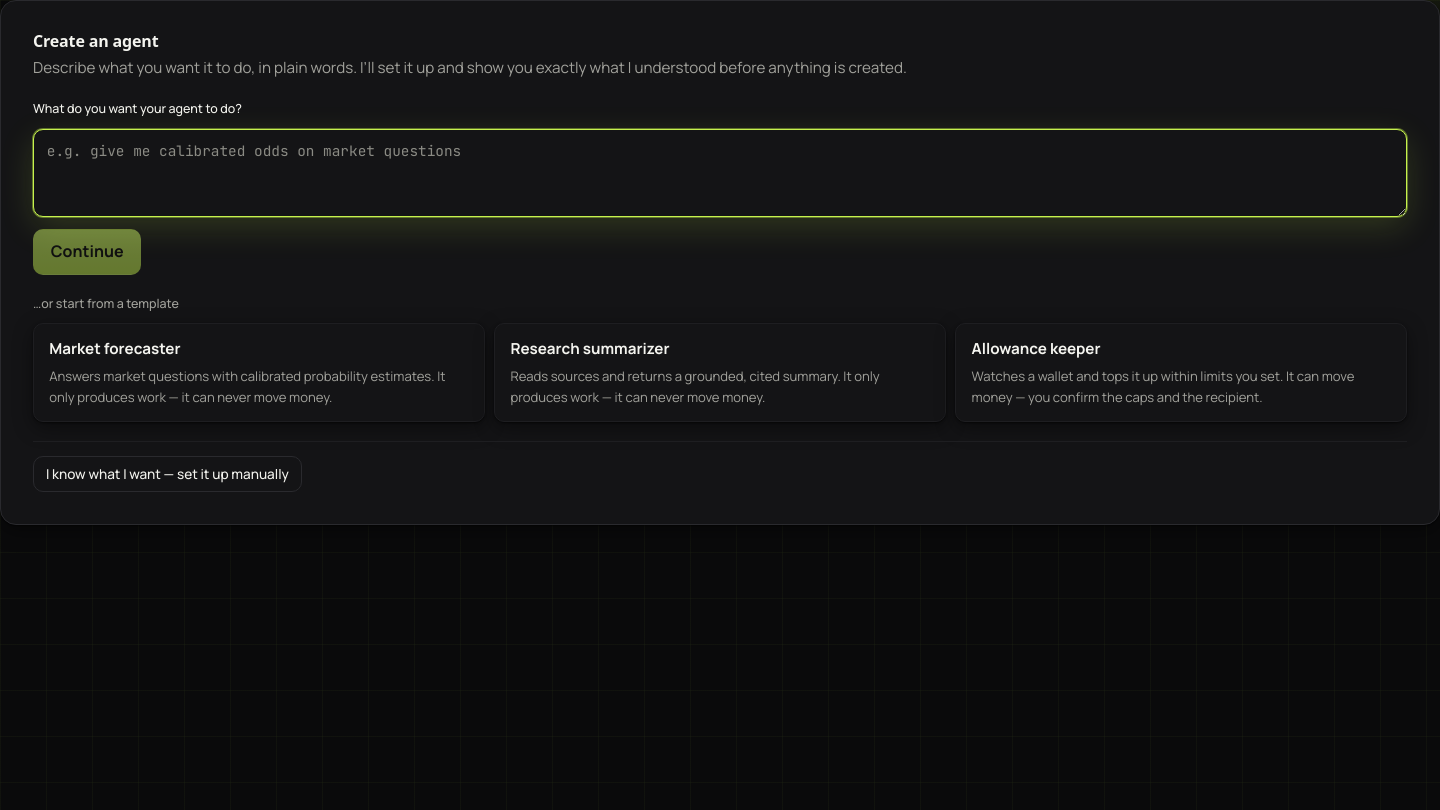
Test: FunnelEntry › an elevation failure shows a legible retry, not a blank screen
In the text box with test id "funnel-intent": point(720, 173) x1=33 y1=129 x2=1407 y2=217, type "odds please"
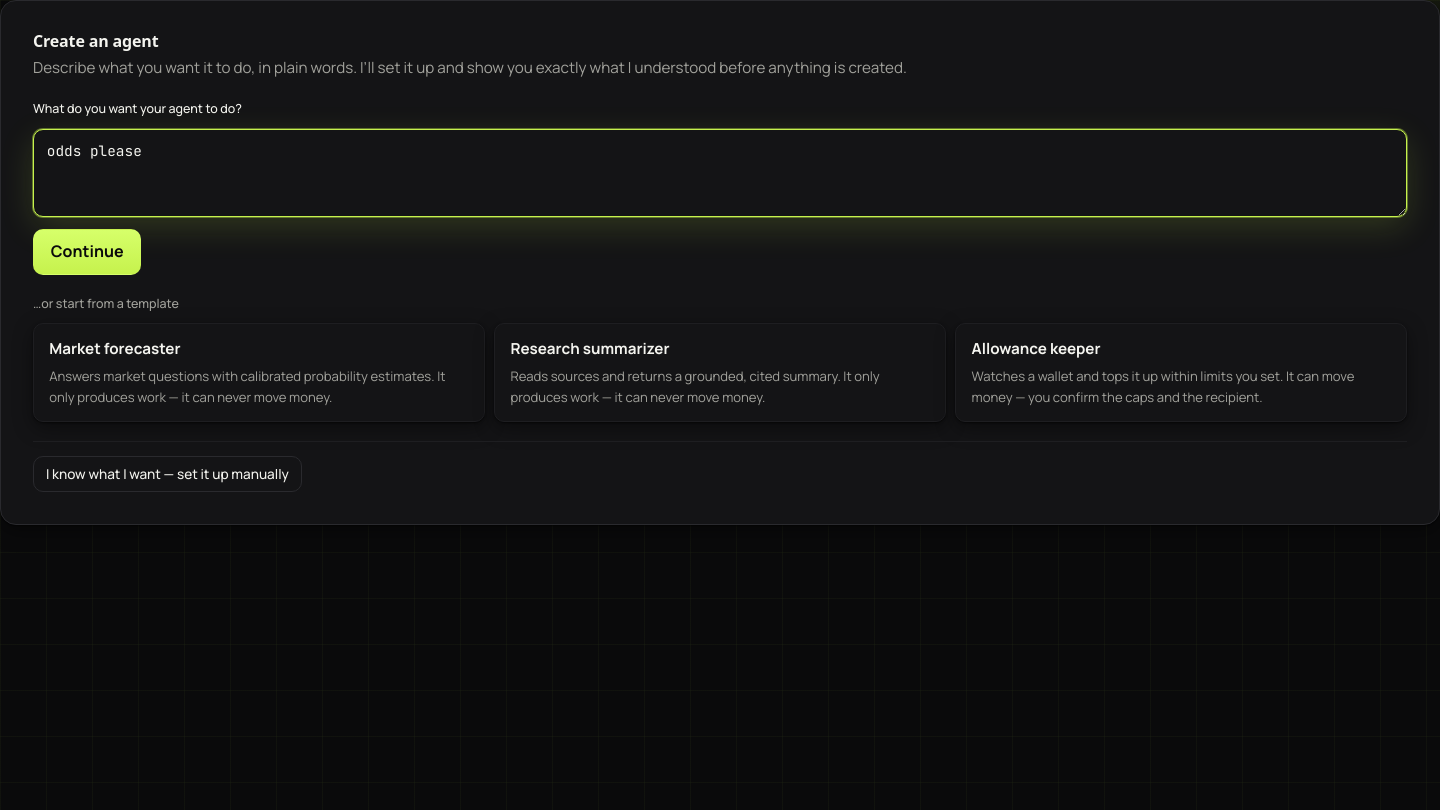
Click the button with test id "funnel-elevate": point(87, 252) x1=33 y1=229 x2=141 y2=275
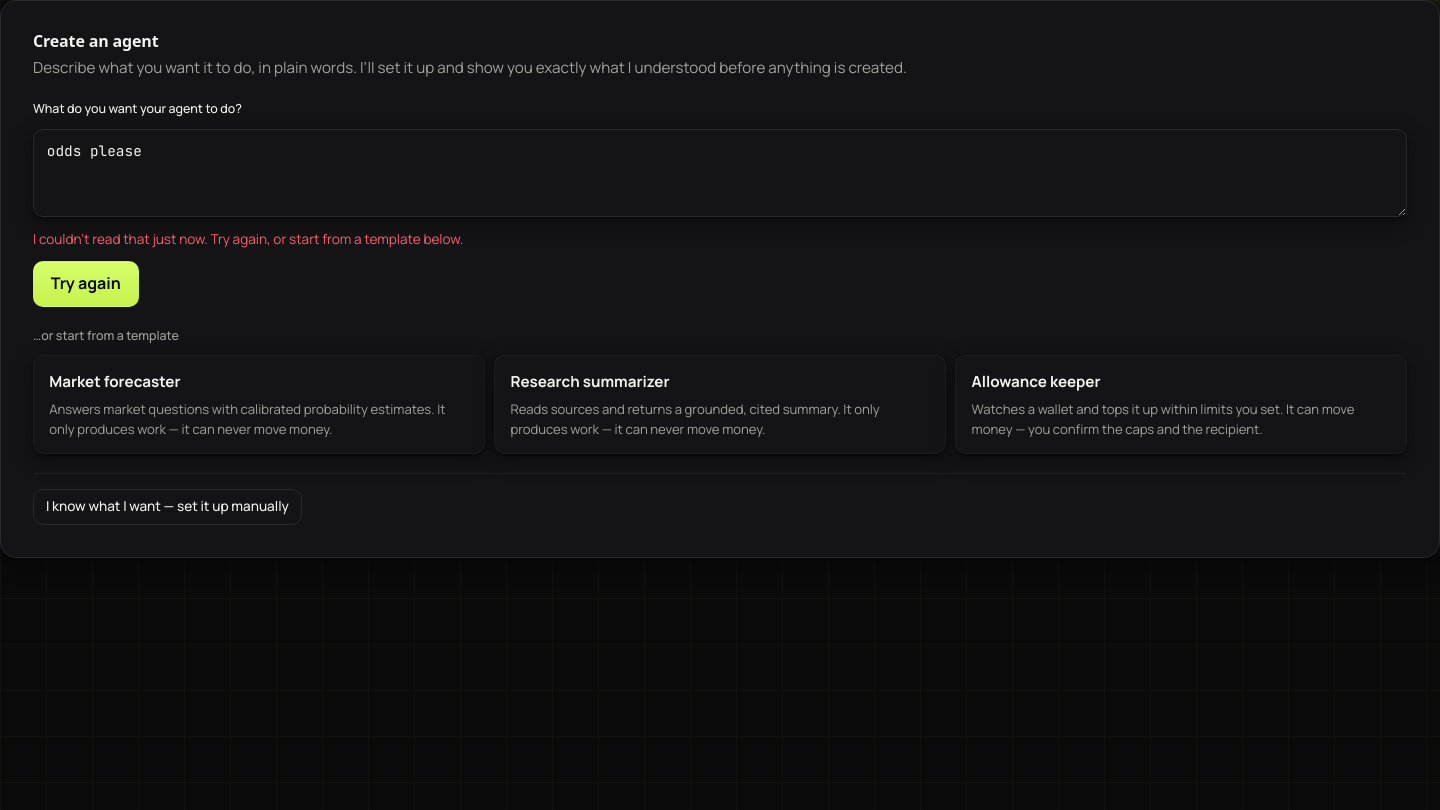
Expected: the element with test id "template-strip" is shown, x1=33 y1=326 x2=1407 y2=454
Result: the message with test id "funnel-error" shows "Try again" at x1=33 y1=230 x2=463 y2=248
